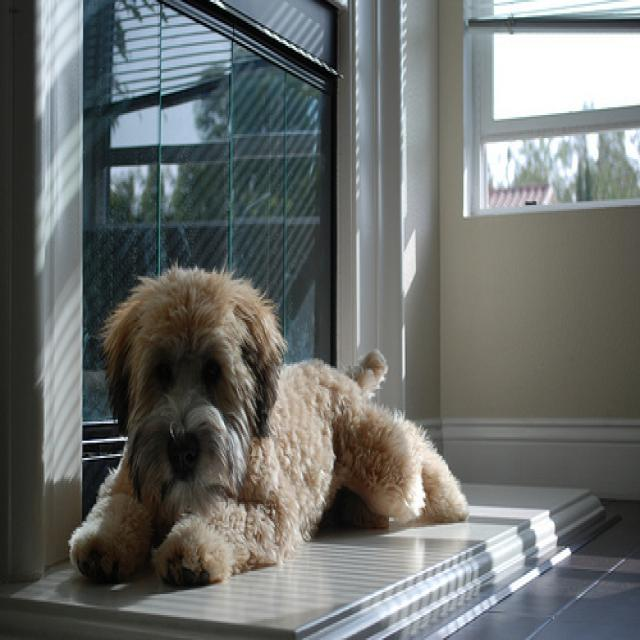dog-wheaten_terrier: (58, 261, 479, 604)
